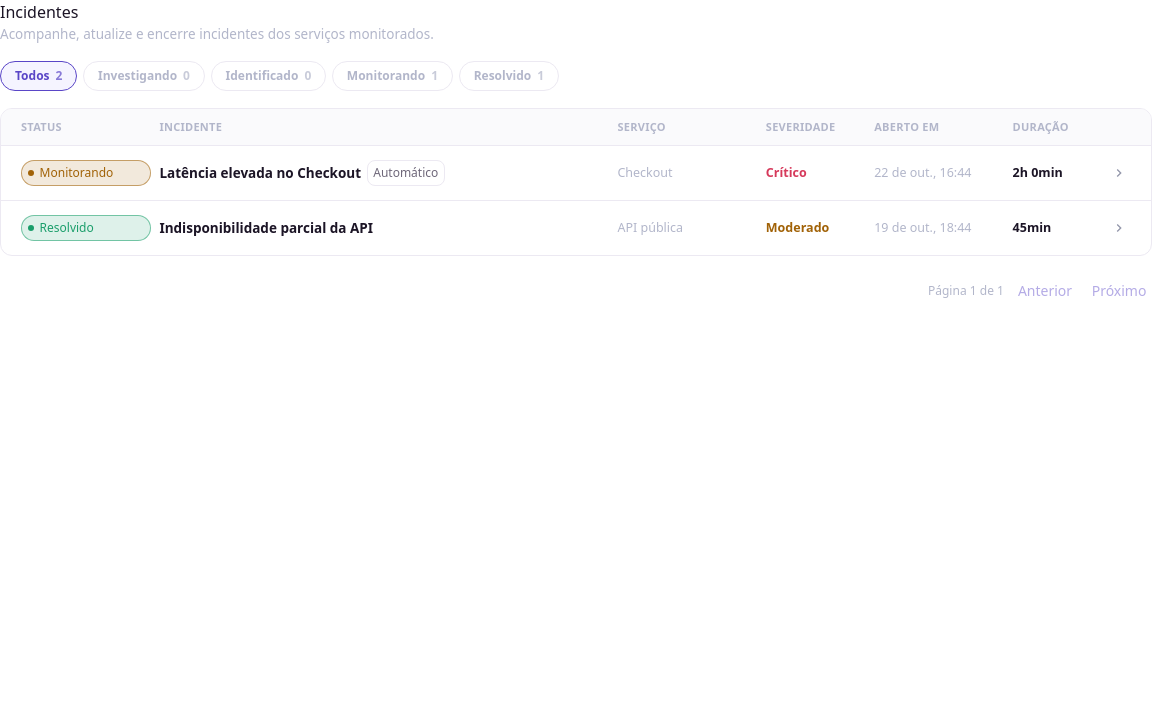
Test: IncidentsPage › viewer doesn't see 'Novo incidente' or management controls in the drawer
expect the text "Latência elevada no Checkout" is shown: met, box [159, 163, 361, 184]
Step 1. Click the text "Indisponibilidade parcial da API" → (266, 228), box [159, 218, 373, 238]
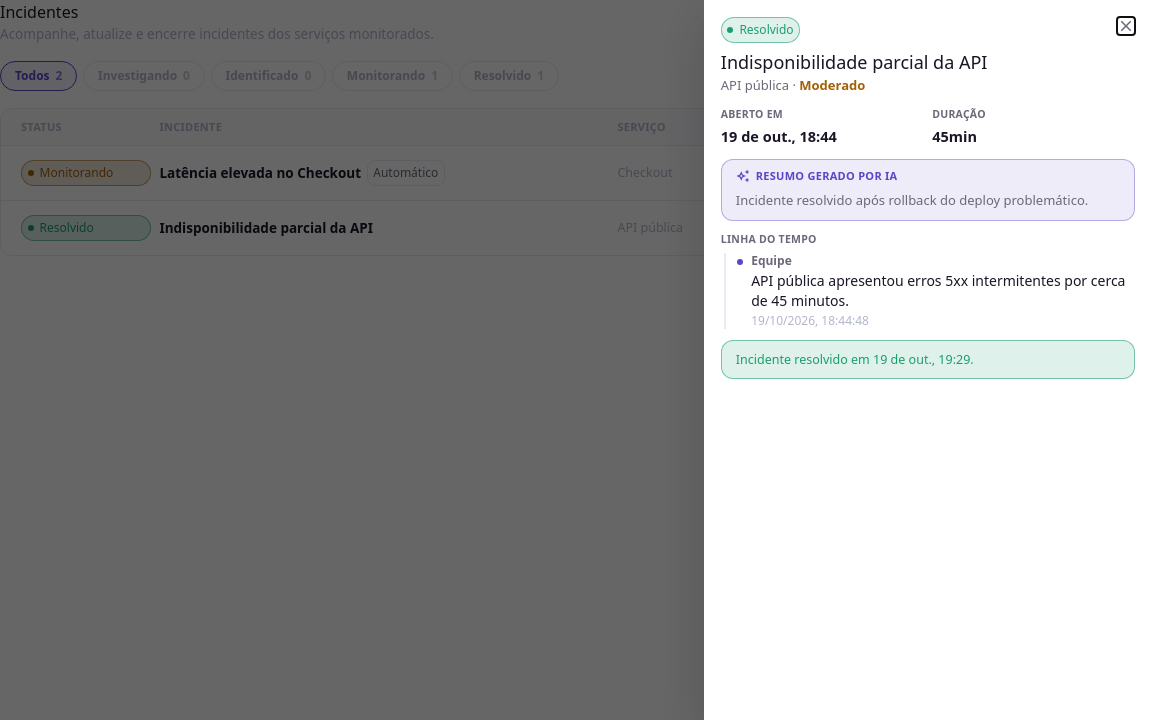
expect the text "Incidente resolvido em 19 de out., 19:29." is shown: met, box [721, 340, 1135, 380]
